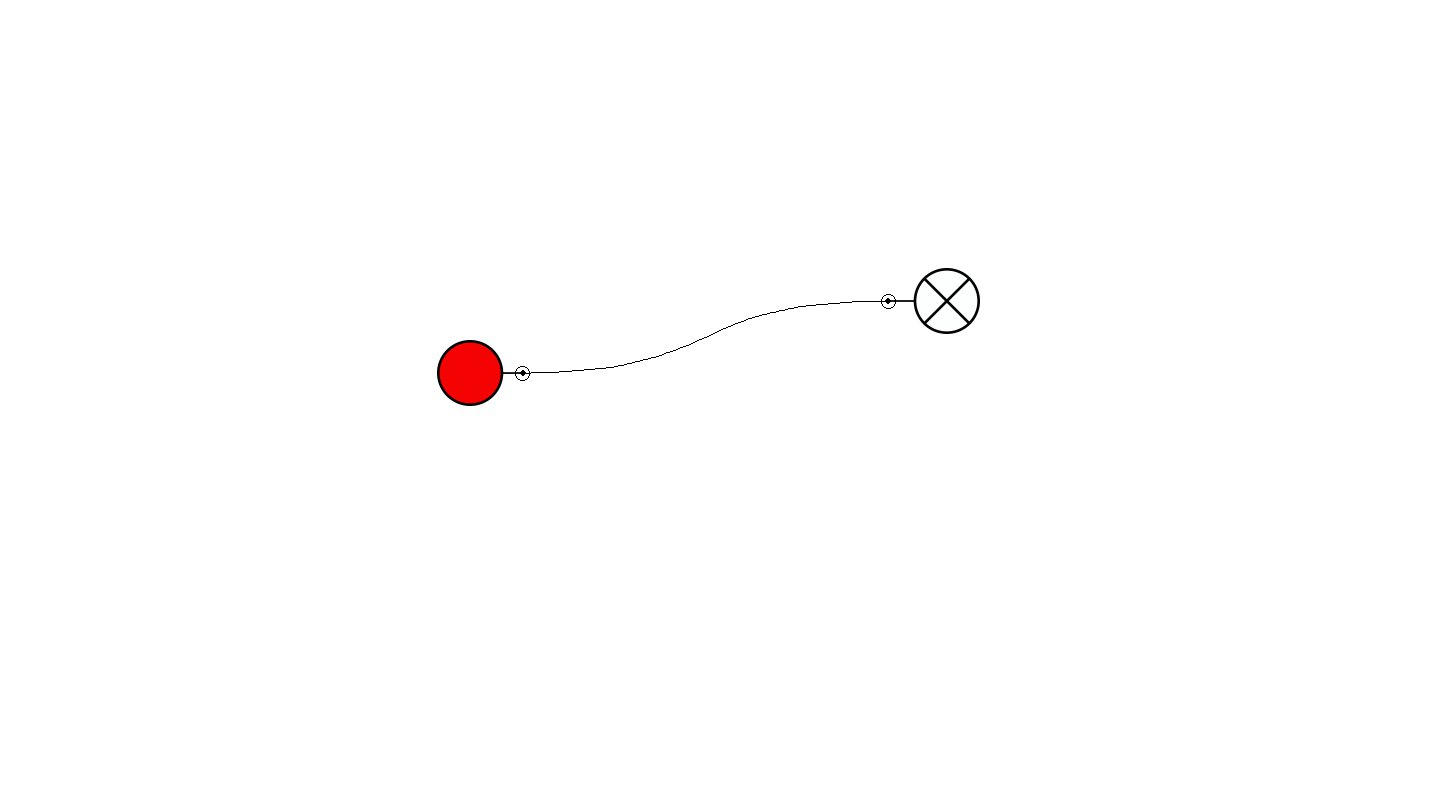bulb: (881, 268, 980, 334)
switch_False: (437, 340, 530, 406)
